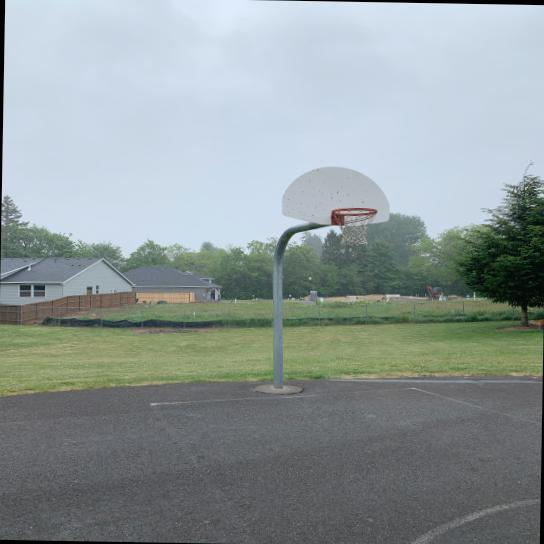basketball-hoop: (330, 207, 378, 246)
